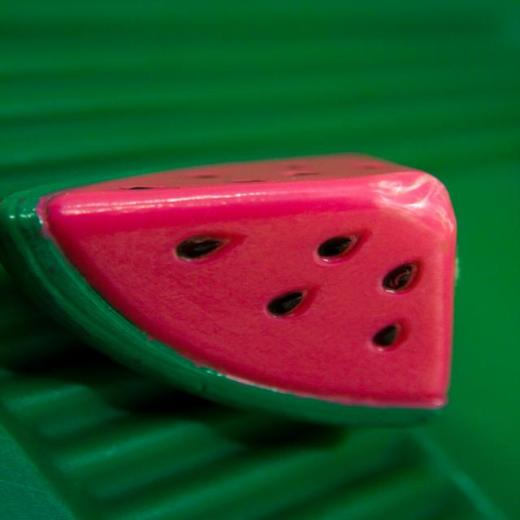Cherry: (0, 151, 456, 429)
